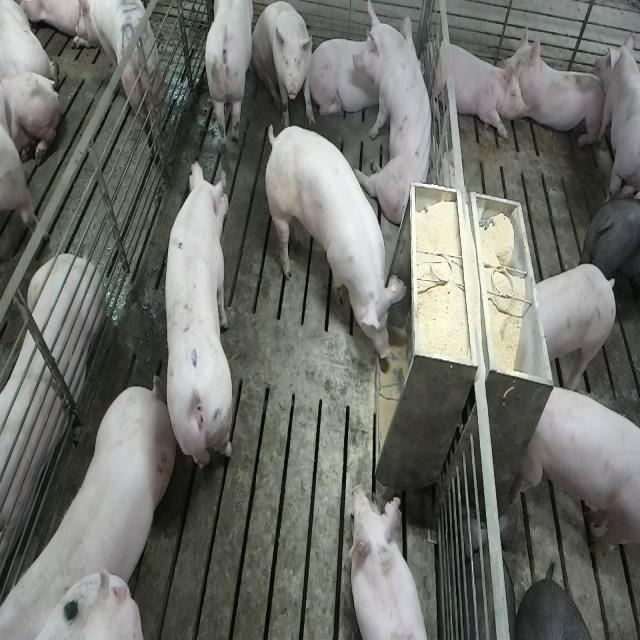Feeding: (270, 125, 413, 377)
Sitting: (360, 6, 440, 230), (252, 1, 315, 126)
Standing: (162, 159, 234, 480), (515, 383, 639, 568), (88, 3, 166, 151), (535, 262, 619, 394), (202, 2, 255, 153), (596, 31, 640, 201), (583, 190, 640, 316)
Sternal_lying: (0, 250, 102, 580), (502, 23, 607, 146), (350, 484, 431, 640), (311, 26, 424, 126), (425, 30, 524, 142)
